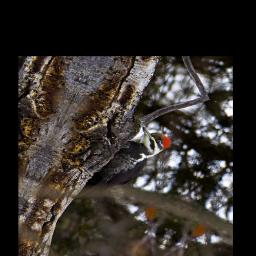Woodpecker: (84, 116, 177, 210)
